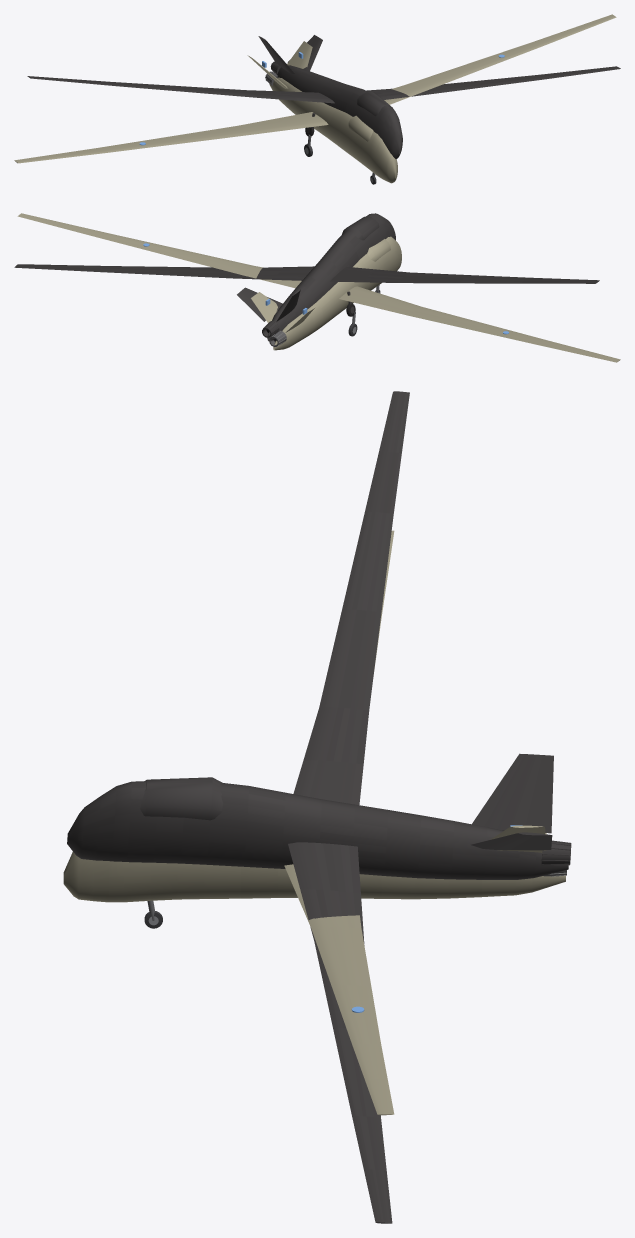
The model's file is drone__rq_4b_japan.glb.
3 renders of one model, top to bottom at view 1: azimuth 30°, elevation 25°; view 2: azimuth 150°, elevation 25°; view 3: azimuth 270°, elevation 25°, orthographic. The views are drawn at different scales.
Parts seen in each view (by area): view 1: Fuselage_Mesh, Wreck; view 2: Wreck, Fuselage_Mesh; view 3: Wreck, Fuselage_Mesh.
Boxes of the visible parts, x1,y1,x2,y2 form: Fuselage_Mesh: [14, 14, 616, 184]; Wreck: [27, 35, 620, 159]; Wreck: [14, 213, 599, 341]; Fuselage_Mesh: [17, 213, 620, 362]; Wreck: [67, 391, 571, 1223]; Fuselage_Mesh: [63, 530, 566, 1115].
Size of what is drawn, in the model's own units: 40.17 by 8.33 by 14.66.
